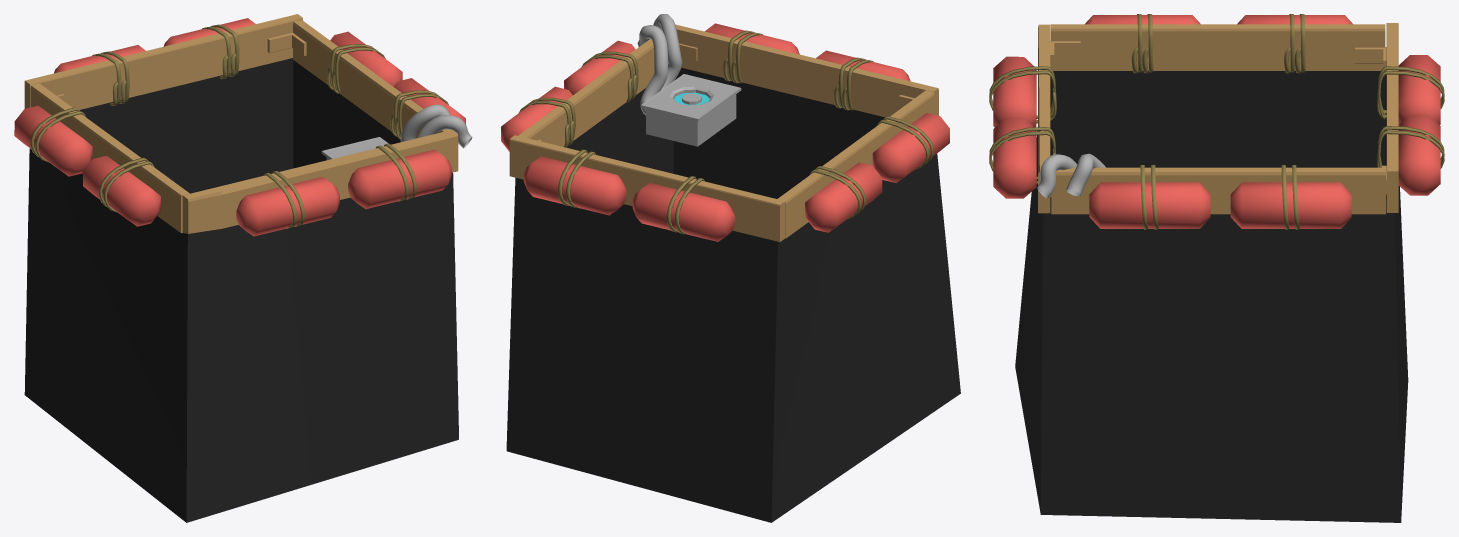
Rendered from Mesh_Fishfarm.fbx.
3 views of the same model, side by side, from view 1: azimuth 30°, elevation 25°; view 2: azimuth 150°, elevation 25°; view 3: azimuth 270°, elevation 25° (orthographic). The views are drawn at different scales.
Visible parts, largest first — view 1: Cylinder.001, Cylinder.002; view 2: Cylinder.001, Cylinder.002; view 3: Cylinder.001, Cylinder.002.
Part boxes in pixels (left/top/right/bottom): Cylinder.001: left=24, top=58, right=458, bottom=522; Cylinder.002: left=14, top=14, right=472, bottom=236; Cylinder.001: left=506, top=67, right=960, bottom=522; Cylinder.002: left=501, top=14, right=949, bottom=241; Cylinder.001: left=1015, top=71, right=1408, bottom=522; Cylinder.002: left=989, top=14, right=1444, bottom=229.
Bounding box in the file's own units: 425 × 386 × 432.
